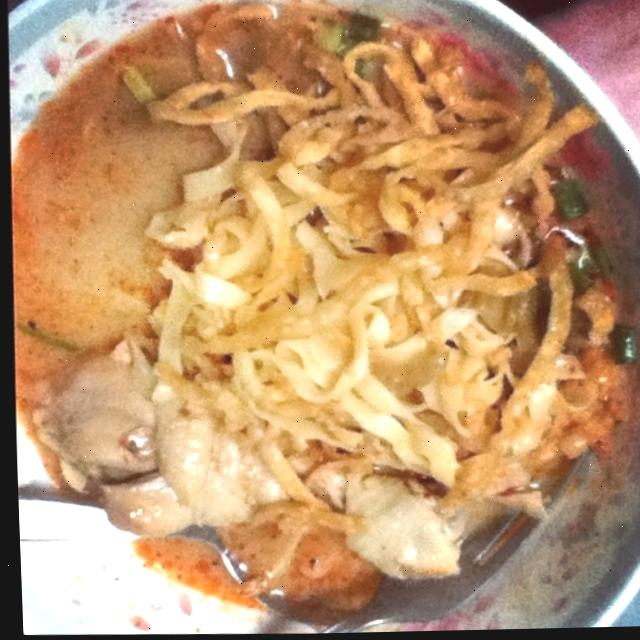面条主食: (16, 6, 622, 628)
